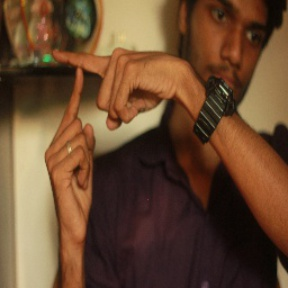T: (37, 42, 114, 145)
